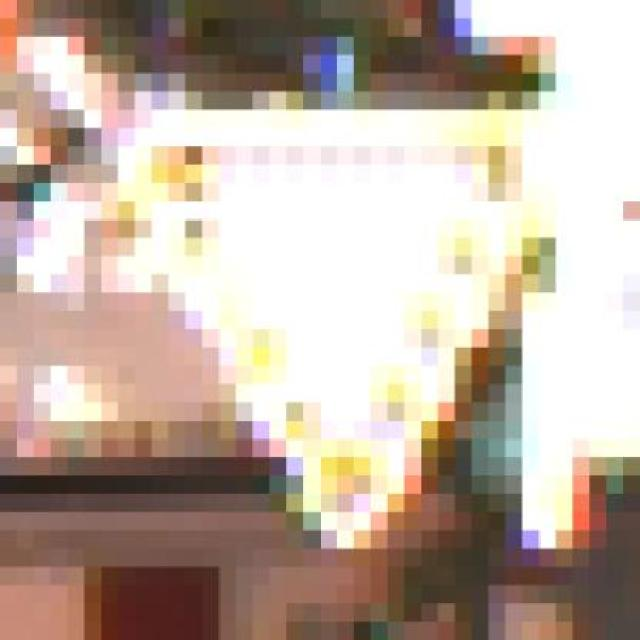Give Way: (67, 110, 607, 548)
